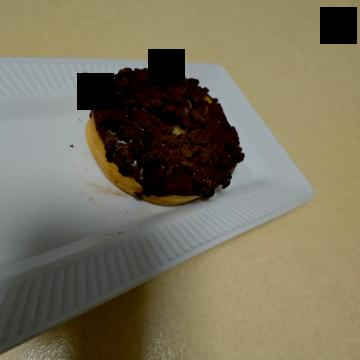doughnut: (60, 98, 227, 277)
